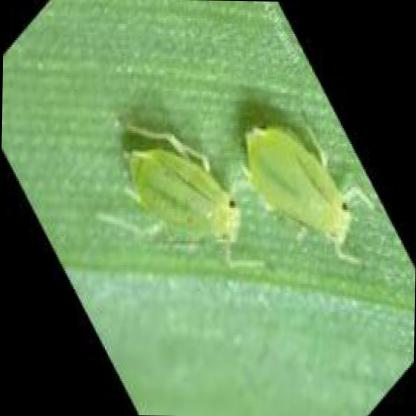schizaphis graminum: (247, 118, 370, 263), (127, 127, 241, 246)
